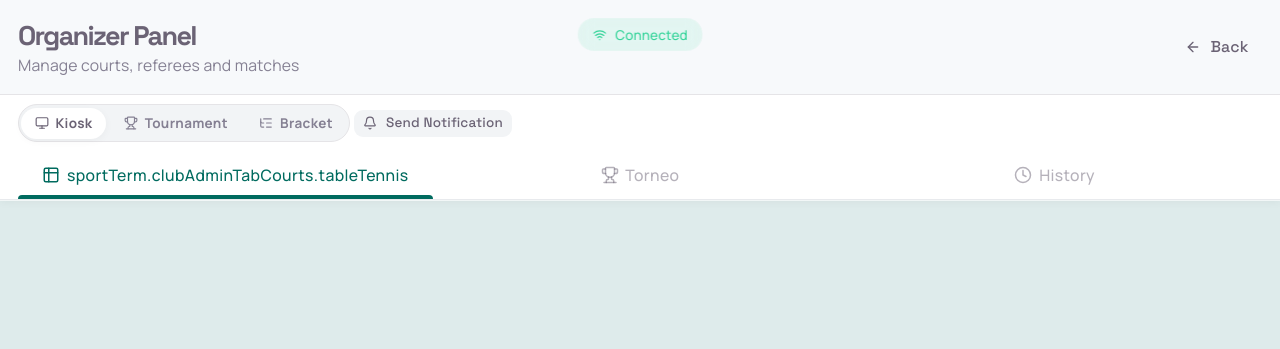
Test: OwnerDashboardPage — Tournament tab (bracket integration) › clicking the Torneo tab shows the bracket setup form
Expected: the text "Crear bracket" is not shown
Click the tab "Torneo" at (640, 176), box left=433, top=152, right=847, bottom=200
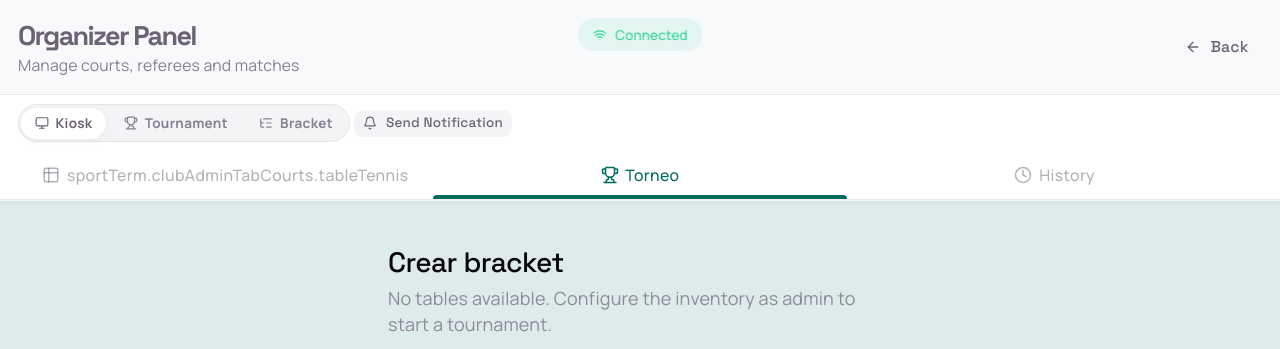
Result: the heading "Crear bracket" is shown at left=388, top=244, right=564, bottom=280
